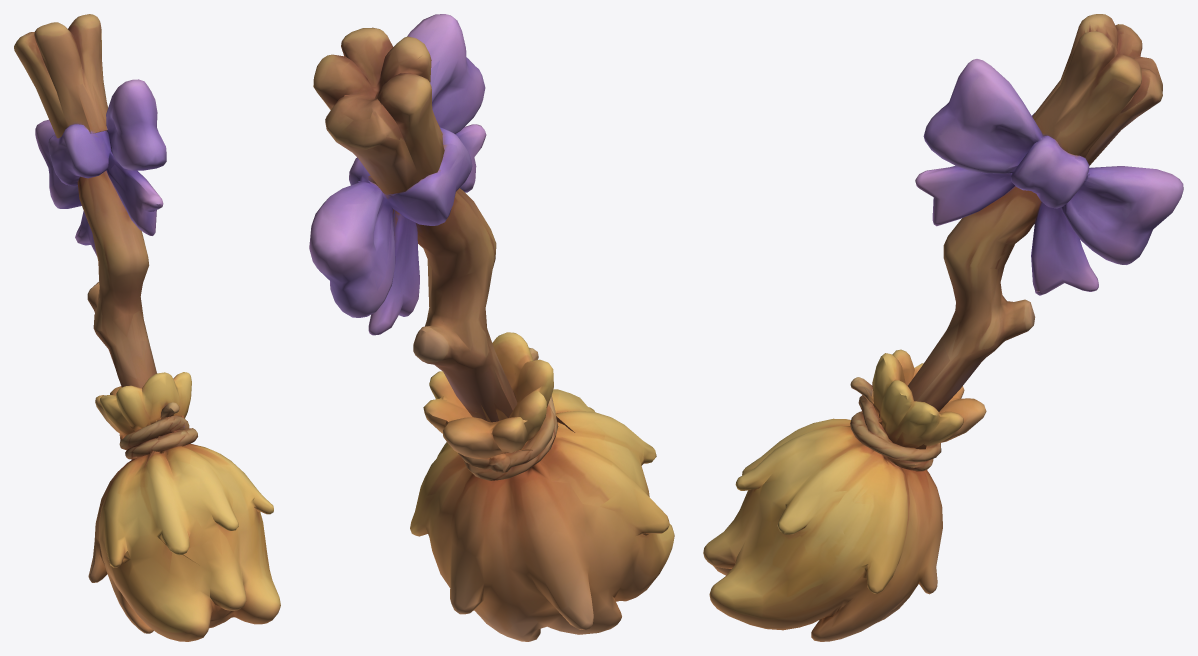
The model's file is S9_Broom_LOD0.fbx.
3 renders of one model, left to right at view 1: azimuth 30°, elevation 25°; view 2: azimuth 150°, elevation 25°; view 3: azimuth 270°, elevation 25°, orthographic. The views are drawn at different scales.
Visible parts, largest first — view 1: S9_Broom_LOD0; view 2: S9_Broom_LOD0; view 3: S9_Broom_LOD0.
Part boxes in pixels (x1=…): S9_Broom_LOD0: x1=14, y1=14, x2=280, y2=641; S9_Broom_LOD0: x1=309, y1=14, x2=674, y2=641; S9_Broom_LOD0: x1=703, y1=14, x2=1183, y2=641.
Bounding box in the file's own units: 0.4572 × 1.4 × 1.02.
Materials: 1 (1 with a texture image).
